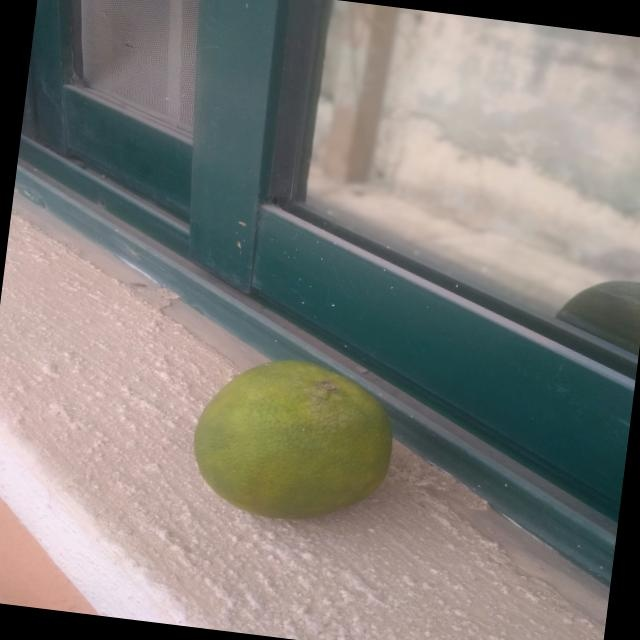agrume: (158, 327, 448, 546)
